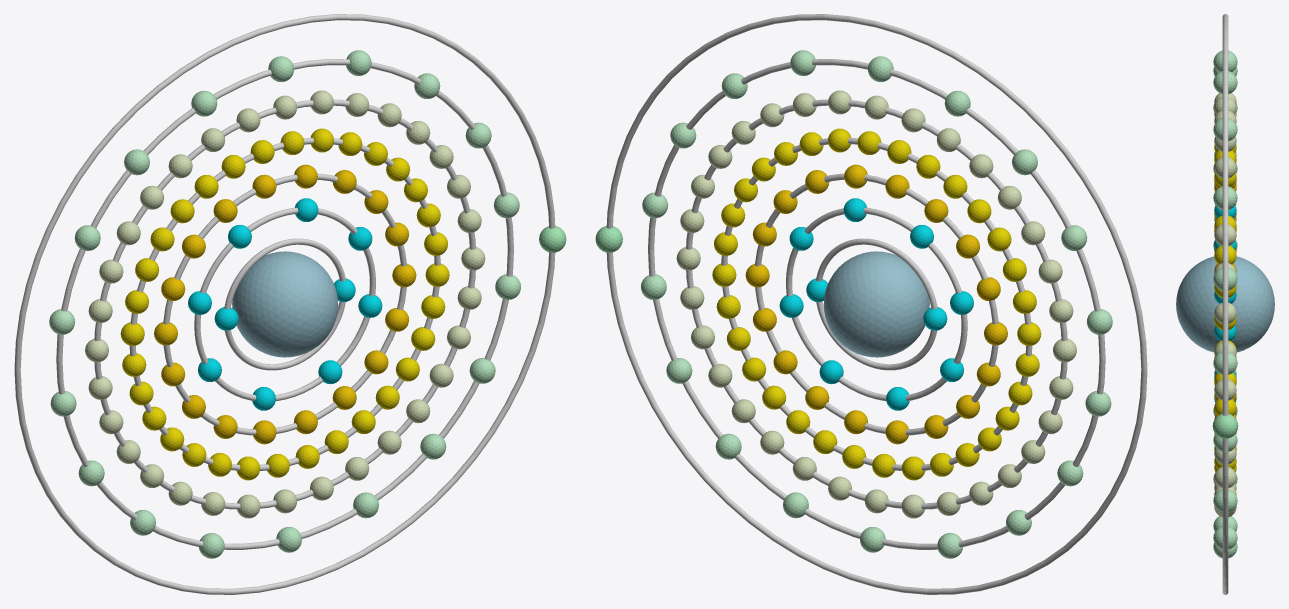
The picture shows the model from 3 angles, left to right: view 1: azimuth 30°, elevation 25°; view 2: azimuth 150°, elevation 25°; view 3: azimuth 270°, elevation 25°; orthographic projection. The views are drawn at different scales.
Parts seen in each view (by area): view 1: world; view 2: world; view 3: world.
Part boxes in pixels (x1=…): world: x1=14, y1=14, x2=566, y2=594; world: x1=595, y1=14, x2=1147, y2=594; world: x1=1176, y1=14, x2=1274, y2=594.
Bounding box in the file's own units: 2.63 × 2.59 × 0.44.
